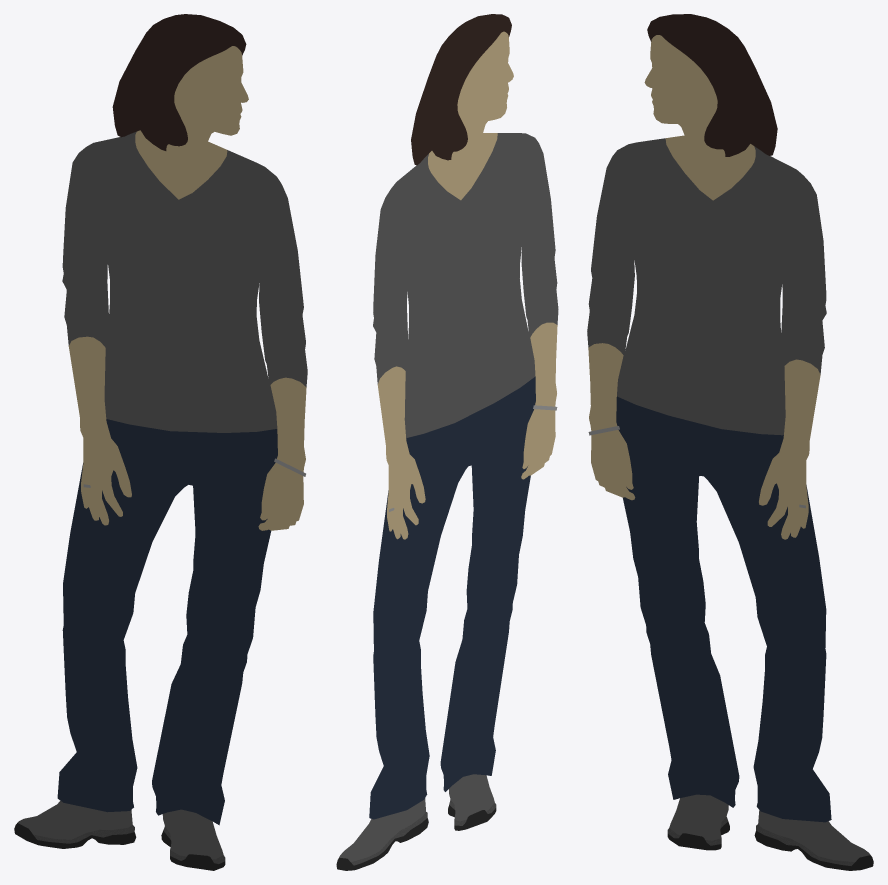
File: woman.dae
3 renders of one model, left to right at view 1: azimuth 90°, elevation 25°; view 2: azimuth 150°, elevation 25°; view 3: azimuth 270°, elevation 25°, orthographic. The views are drawn at different scales.
Parts seen in each view (by area): view 1: Susan (×11); view 2: Susan (×10); view 3: Susan (×10).
Boxes of the visible parts, x1,y1,x2,y2 form: Susan (×11): (14, 14, 307, 859); Susan (×10): (336, 14, 558, 870); Susan (×10): (587, 14, 873, 870).
Bounding box in the file's own units: 7.15 × 20.75 × 66.6.
